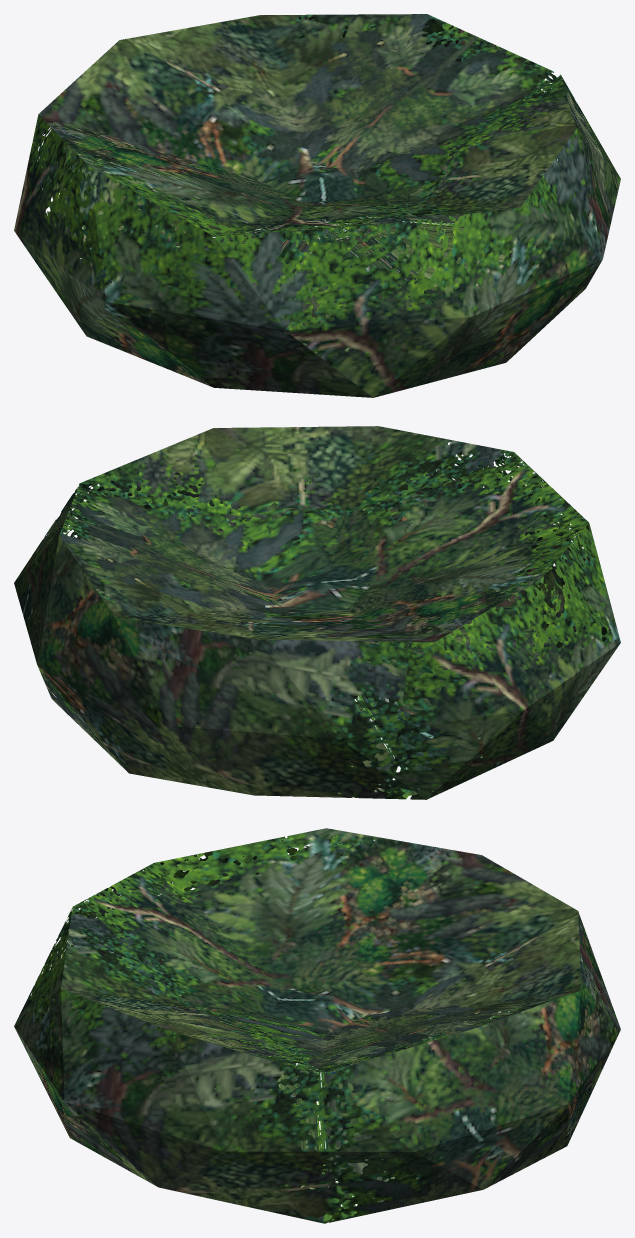
File: MTree_7_Bch_1.gltf
3 views of the same model, one above another, from view 1: azimuth 30°, elevation 25°; view 2: azimuth 150°, elevation 25°; view 3: azimuth 270°, elevation 25° (orthographic).
Visible parts, largest first — view 1: MTree_7_Bch_1; view 2: MTree_7_Bch_1; view 3: MTree_7_Bch_1.
Part boxes in pixels (x1,y1,x2,y2): MTree_7_Bch_1: [14, 14, 620, 397]; MTree_7_Bch_1: [14, 426, 620, 799]; MTree_7_Bch_1: [14, 828, 620, 1223].
Bounding box in the file's own units: 9.73 × 3.2 × 9.99.
Materials: 1 (1 with a texture image).
